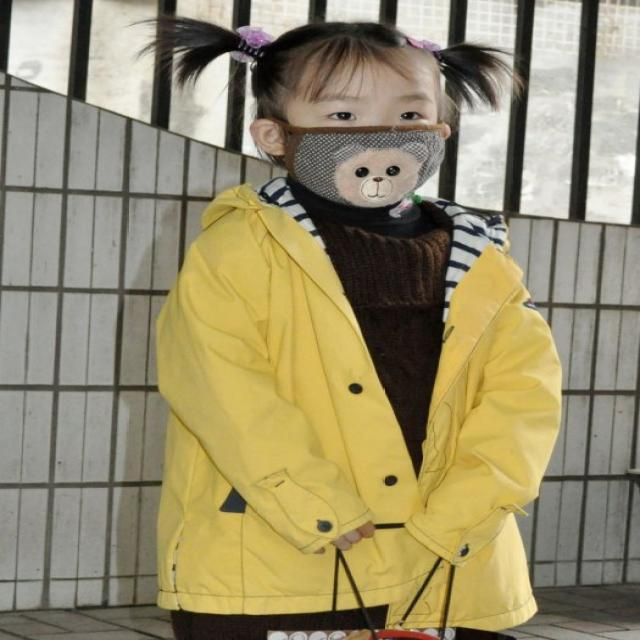mask: (287, 46, 435, 212)
